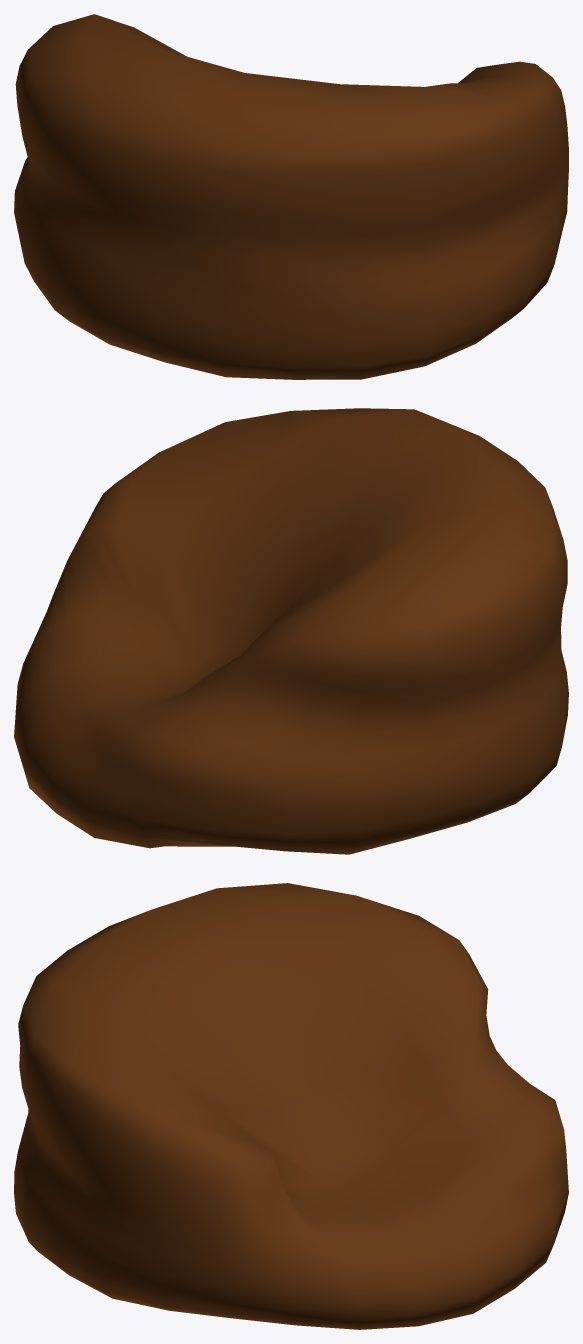
Rendered from pouf_A.glb.
3 views of the same model, one above another, from view 1: azimuth 30°, elevation 25°; view 2: azimuth 150°, elevation 25°; view 3: azimuth 270°, elevation 25° (orthographic). The views are drawn at different scales.
Parts seen in each view (by area): view 1: Cylinder.001; view 2: Cylinder.001; view 3: Cylinder.001.
Part boxes in pixels (bbox=[...]): Cylinder.001: bbox=[14, 14, 568, 379]; Cylinder.001: bbox=[14, 408, 568, 854]; Cylinder.001: bbox=[14, 883, 568, 1329].
Bounding box in the file's own units: 2.02 × 1.1 × 2.03.
